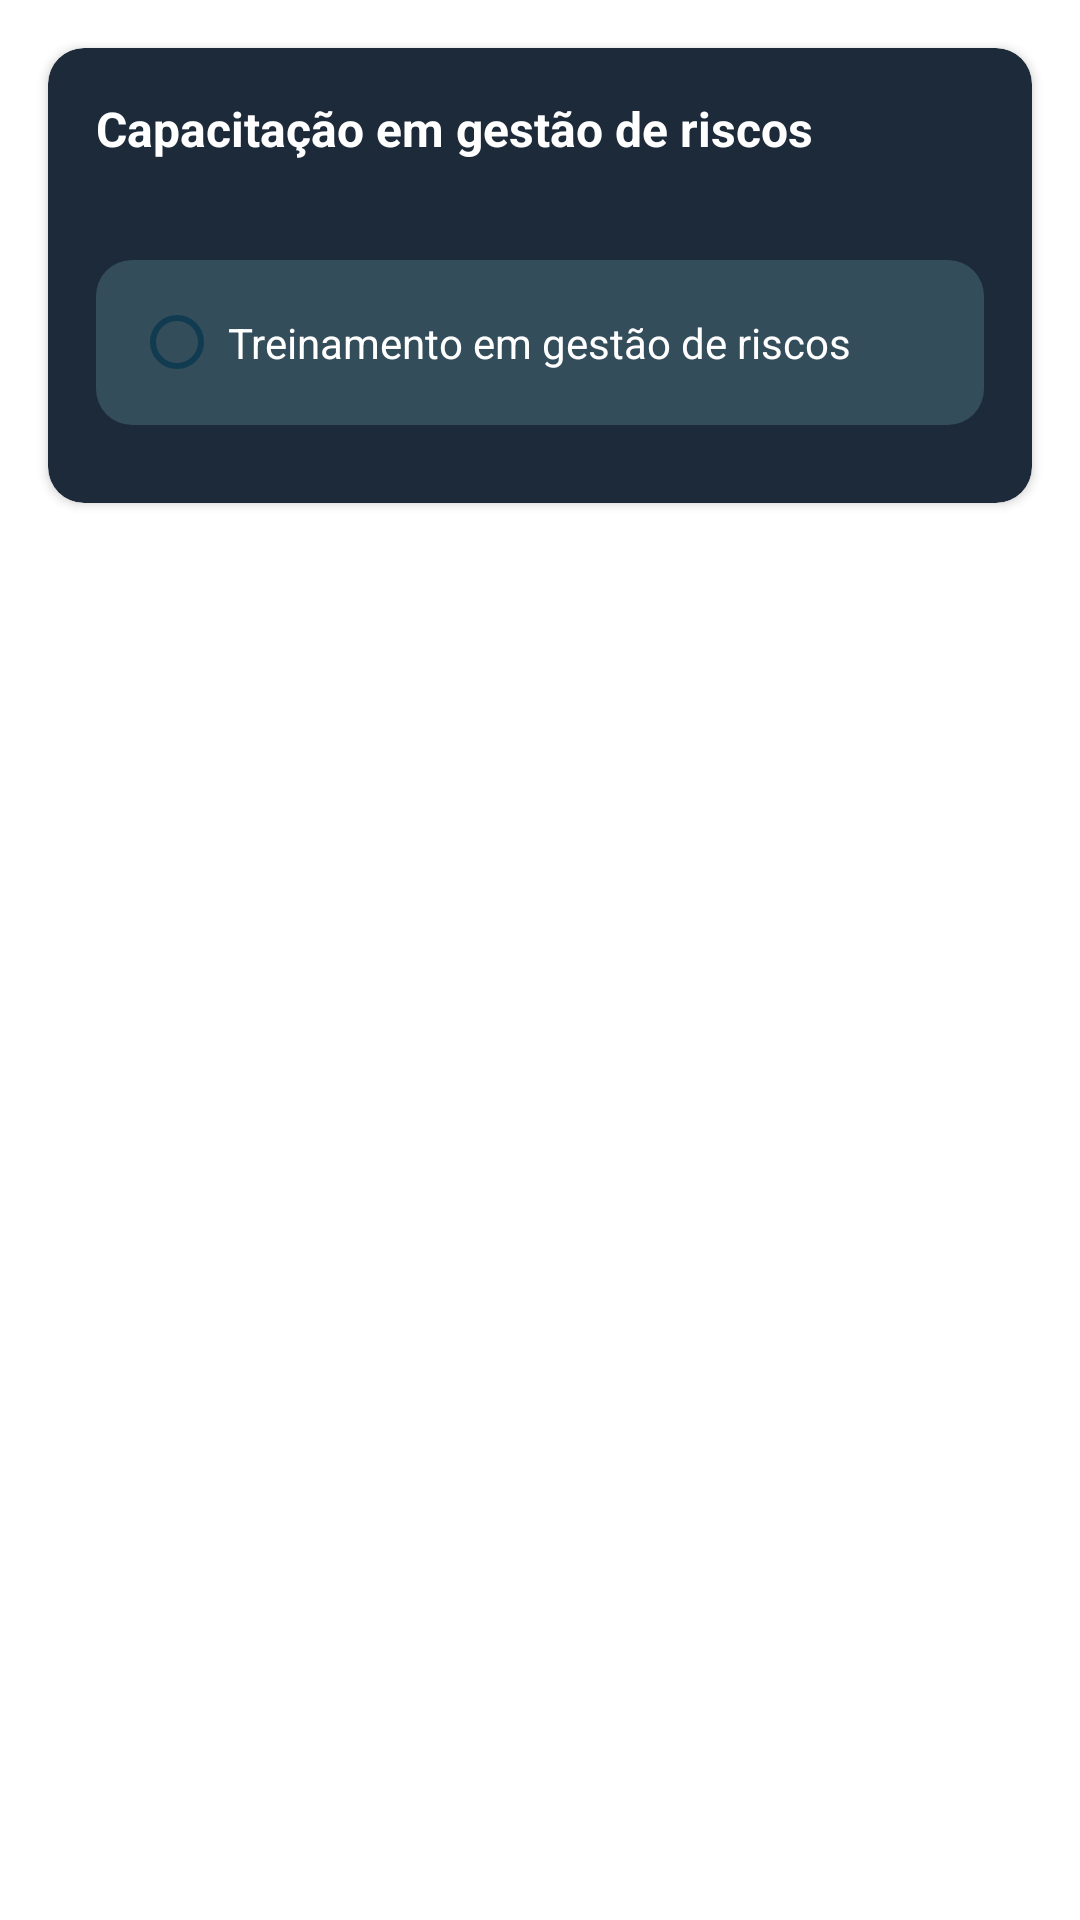

Named icons in this screenshot (1080*1920) and their centers, (x,y):
checkbox: (177,342)
